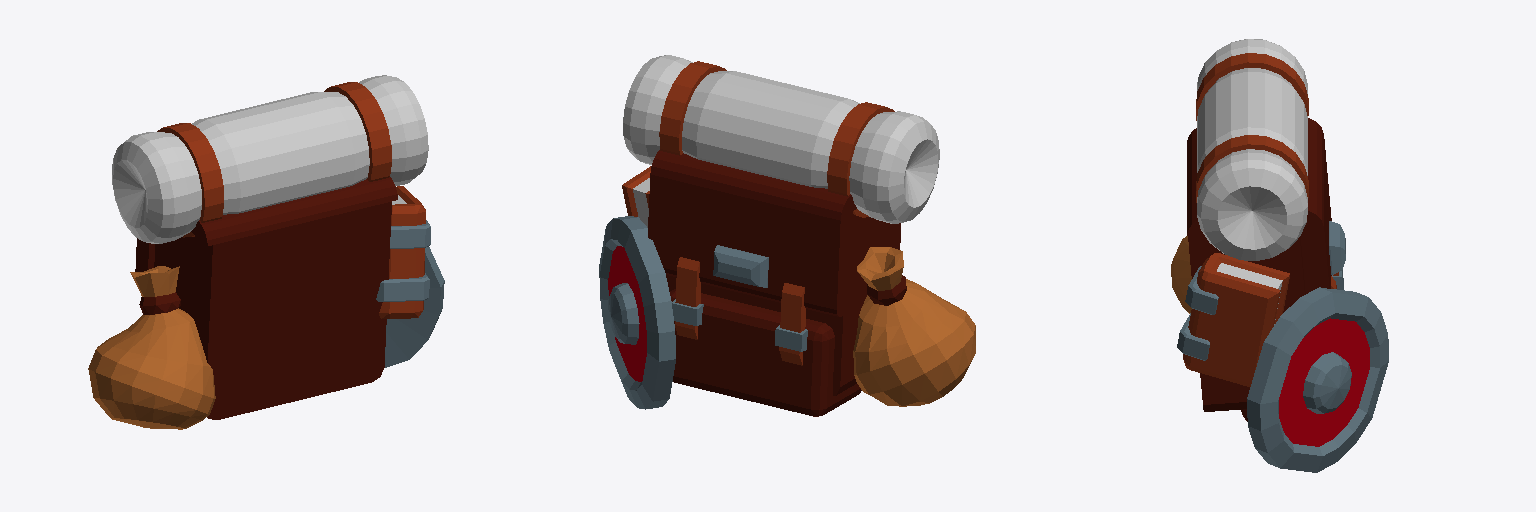
Rendered from backpack.obj.
The picture shows the model from 3 angles: view 1: azimuth 30°, elevation 25°; view 2: azimuth 150°, elevation 25°; view 3: azimuth 270°, elevation 25°; orthographic projection.
Visible parts, largest first — view 1: backpack_Cube.5984; view 2: backpack_Cube.5984; view 3: backpack_Cube.5984.
Boxes of the visible parts, x1=… form: backpack_Cube.5984: x1=88, y1=75, x2=444, y2=429; backpack_Cube.5984: x1=599, y1=55, x2=975, y2=416; backpack_Cube.5984: x1=1171, y1=39, x2=1388, y2=472.
Size of the model in its own units: 0.9857 by 0.8308 by 0.5212.